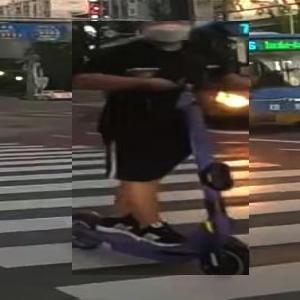with scooter: (72, 21, 249, 275)
